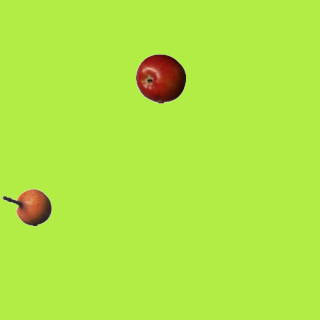Apple Braeburn: (135, 53, 185, 103)
Granadilla: (1, 182, 51, 232)
